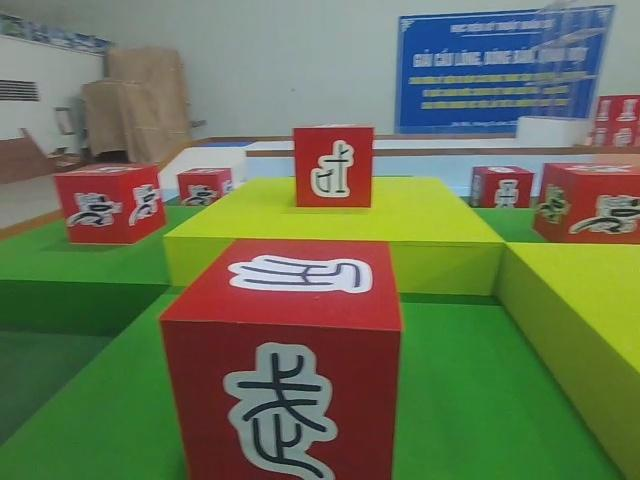R1: (55, 160, 168, 245), (530, 159, 640, 246), (176, 166, 236, 207)
R2 Fake: (156, 235, 407, 480)
R2 Real: (289, 124, 375, 210), (466, 163, 534, 211)
